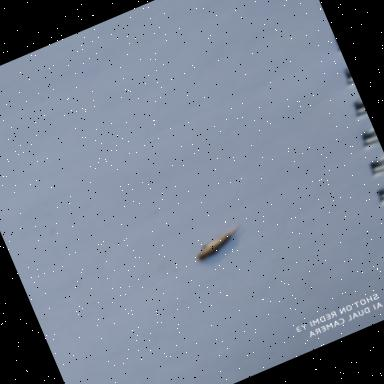pbw: (192, 225, 242, 262)
